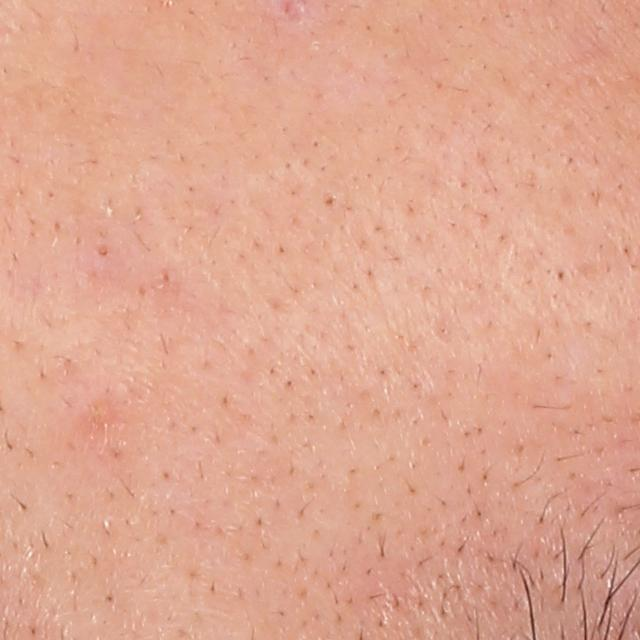comedo: (320, 191, 338, 212)
